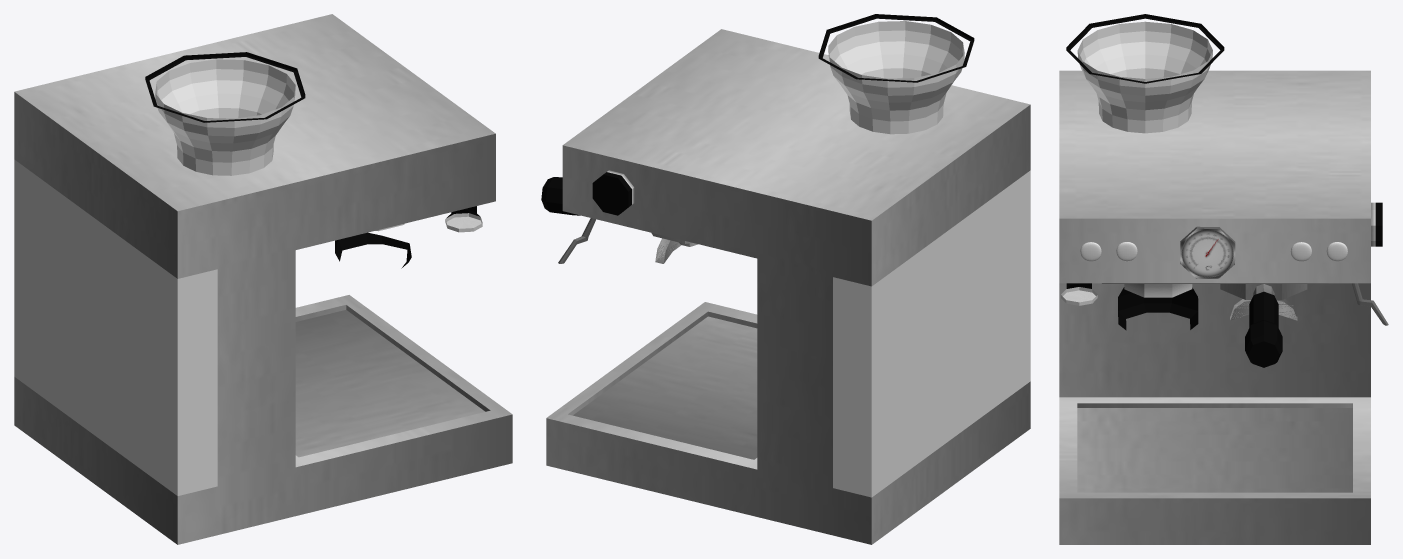
File: mesin expresso.fbx
3 renders of one model, left to right at view 1: azimuth 30°, elevation 25°; view 2: azimuth 150°, elevation 25°; view 3: azimuth 270°, elevation 25°, orthographic. The views are drawn at different scales.
Visible parts, largest first — view 1: Cylinder, Cylinder.007, Cylinder.001, Cylinder.006, Cylinder.009, Cylinder.003; view 2: Cylinder, Cylinder.007, Cylinder.001, Cylinder.006, Cylinder.005, pegangan; view 3: Cylinder, Cylinder.001, Cylinder.008, pegangan, Cylinder.009, Cylinder.006, filter dalam, Cylinder.004, salur dalam, Cylinder.003.
Part boxes in pixels (box(x1,y1,x2,y2)): Cylinder: box(14, 14, 512, 544); Cylinder.007: box(14, 159, 217, 495); Cylinder.001: box(155, 59, 295, 175); Cylinder.006: box(145, 52, 305, 122); Cylinder.009: box(335, 232, 411, 268); Cylinder.003: box(445, 213, 482, 232); Cylinder: box(546, 29, 1030, 544); Cylinder.007: box(833, 170, 1030, 497); Cylinder.001: box(828, 21, 964, 134); Cylinder.006: box(818, 14, 974, 82); Cylinder.005: box(592, 172, 631, 215); pegangan: box(541, 177, 580, 215); Cylinder: box(1059, 70, 1370, 544); Cylinder.001: box(1077, 21, 1212, 133); Cylinder.008: box(1180, 226, 1235, 278); pegangan: box(1245, 291, 1282, 367); Cylinder.009: box(1118, 287, 1198, 330); Cylinder.006: box(1066, 14, 1224, 83); filter dalam: box(1220, 284, 1307, 299); Cylinder.004: box(1124, 284, 1192, 297); salur dalam: box(1230, 299, 1297, 320); Cylinder.003: box(1061, 287, 1097, 305).
Bounding box in the file's own units: 427 × 432 × 328.
Materials: 6 (2 with a texture image).
